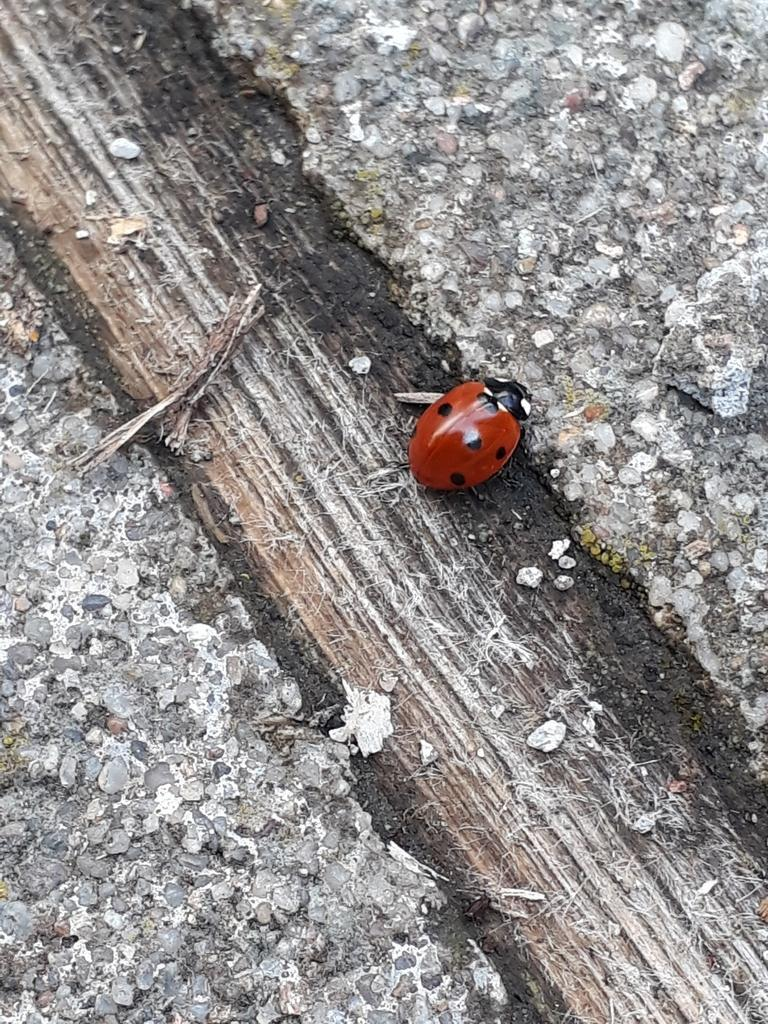ladybug: (405, 376, 535, 506)
